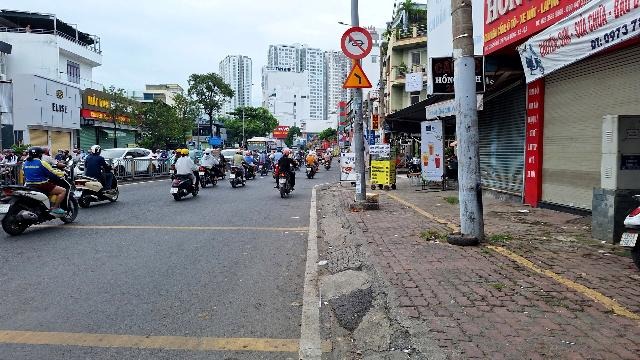cam-bop-coi: (340, 26, 372, 60)
cho-ngoat-nguy-hiem-ben-trai: (342, 60, 372, 88)
